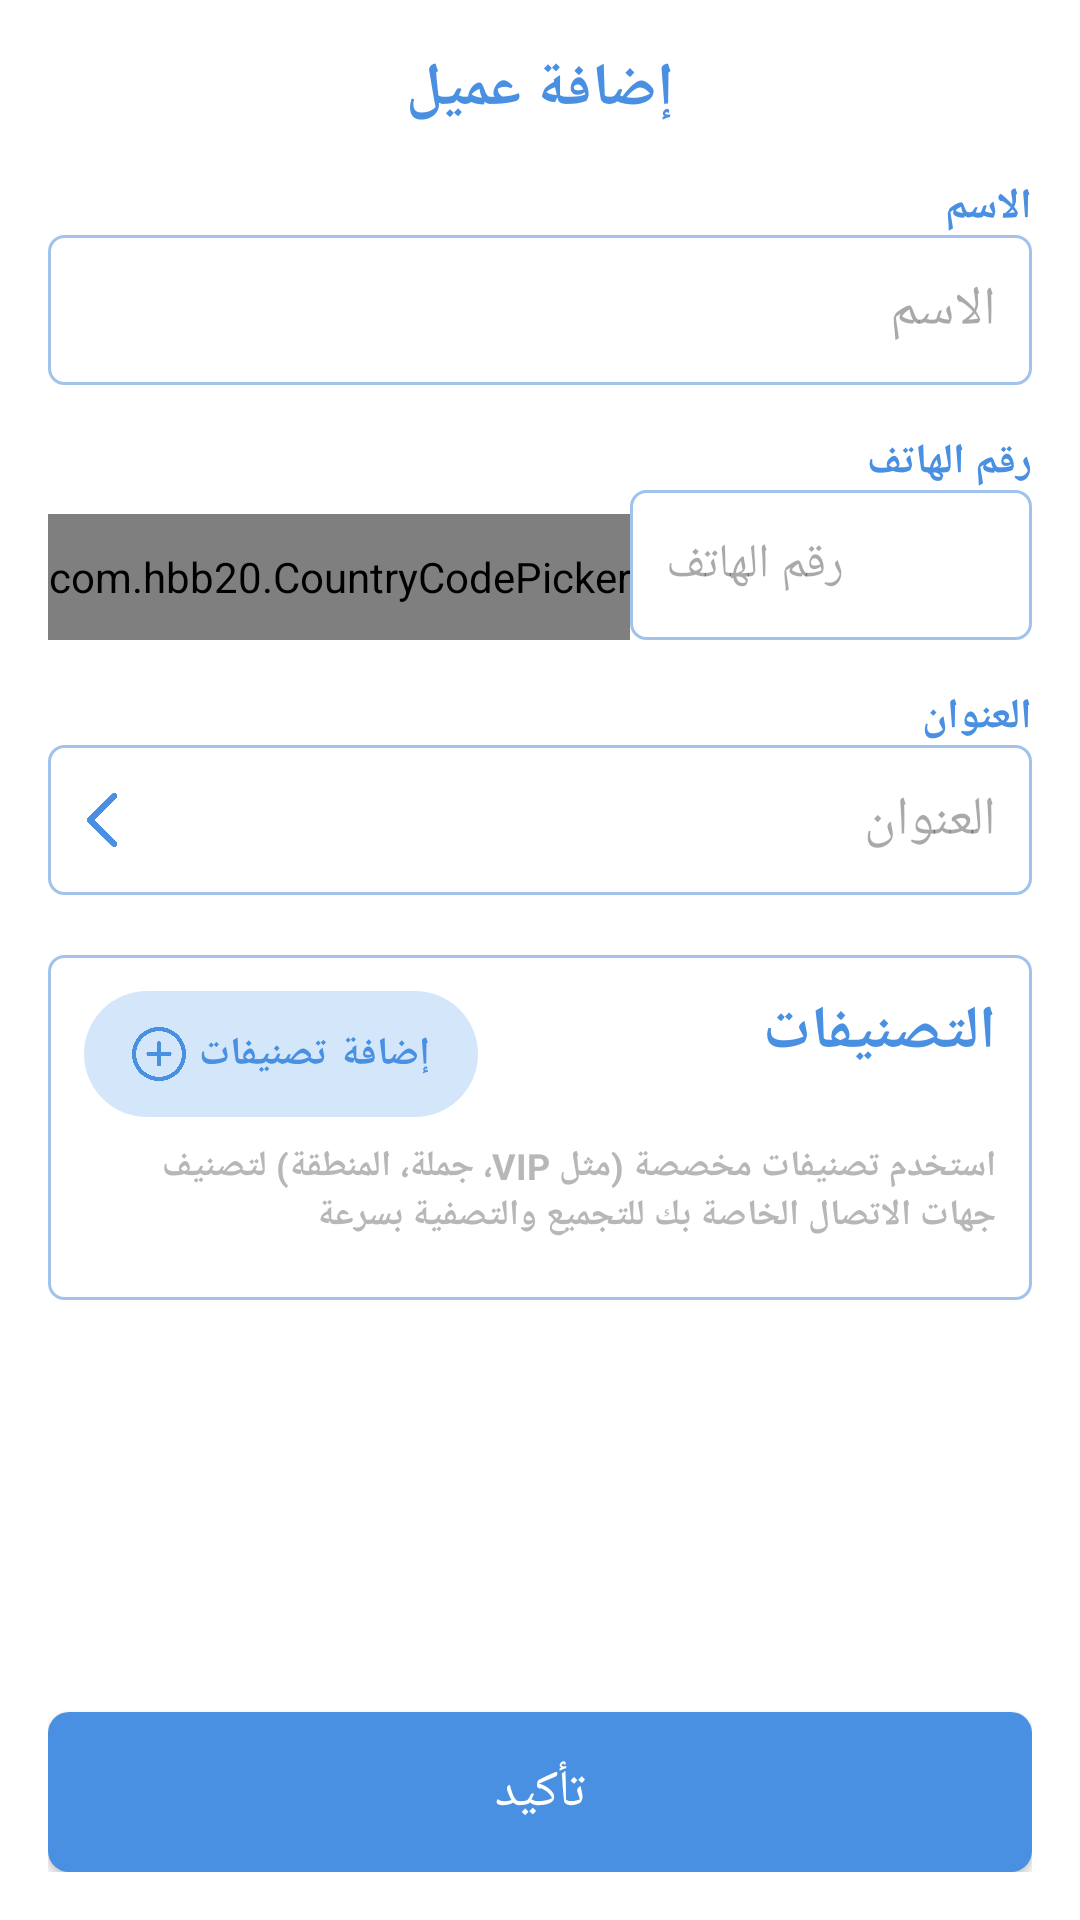

Locate icon controls on the screen. Image size 1080 × 1920, boxes as (x1, y1, x2, y2).
arrow backward: (87, 793, 117, 847)
